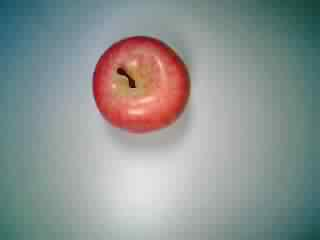apple: (85, 30, 191, 134)
